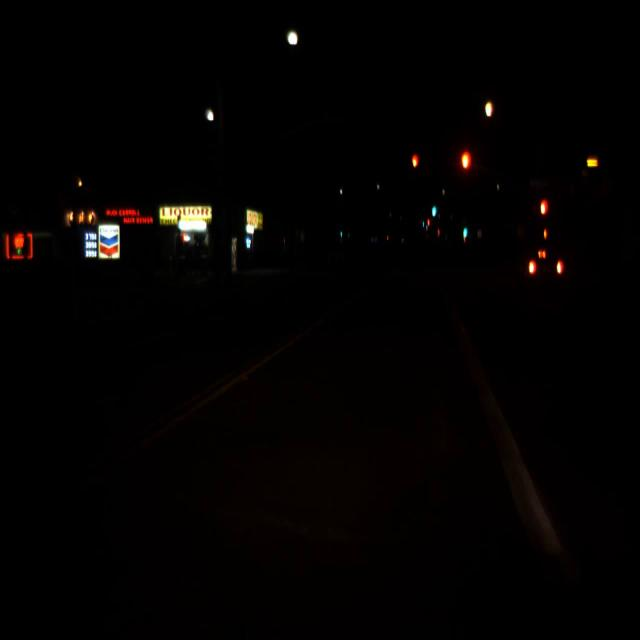stop: (462, 152, 471, 169), (541, 201, 547, 214)
stop left: (412, 156, 418, 165)
stop left traffic light: (410, 153, 420, 178)
stop traffic light: (459, 147, 473, 192), (539, 198, 549, 234)
